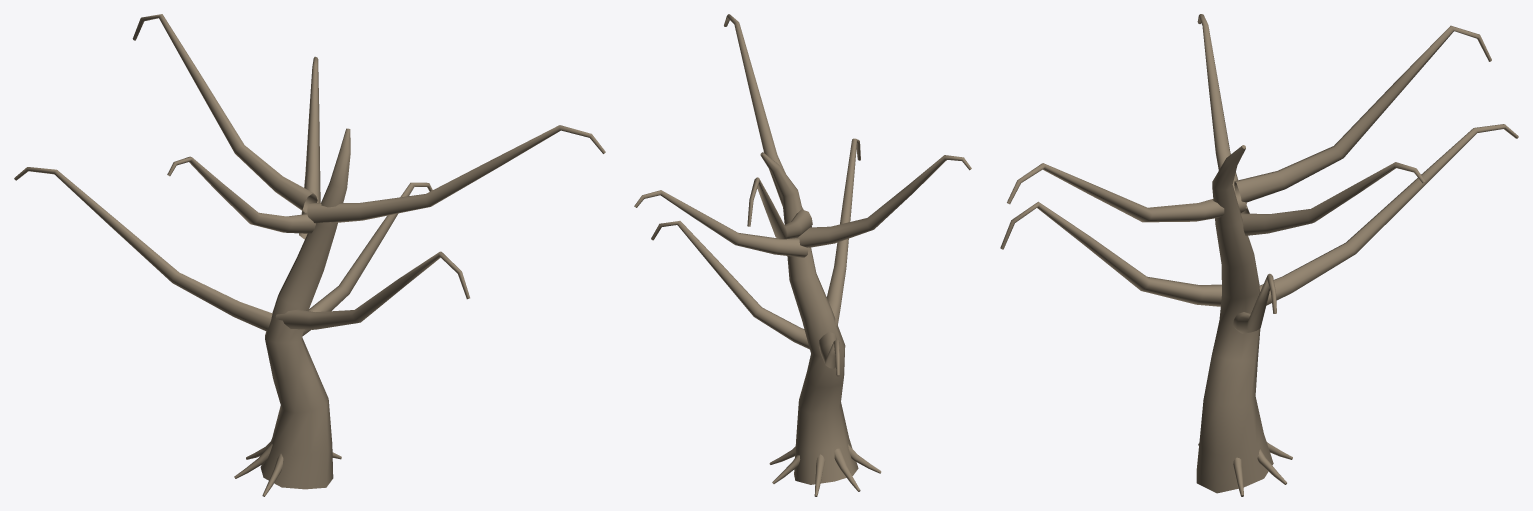
The model's file is dead_tree_lod1.glb.
3 renders of one model, left to right at view 1: azimuth 30°, elevation 25°; view 2: azimuth 150°, elevation 25°; view 3: azimuth 270°, elevation 25°, orthographic. The views are drawn at different scales.
Parts seen in each view (by area): view 1: Bark; view 2: Bark; view 3: Bark.
Boxes of the visible parts, box(x1,y1,x2,y2) form: Bark: box(14, 14, 605, 496); Bark: box(634, 14, 971, 496); Bark: box(1000, 14, 1518, 496).
Size of the model in its own units: 7.19 by 7.71 by 8.35.
